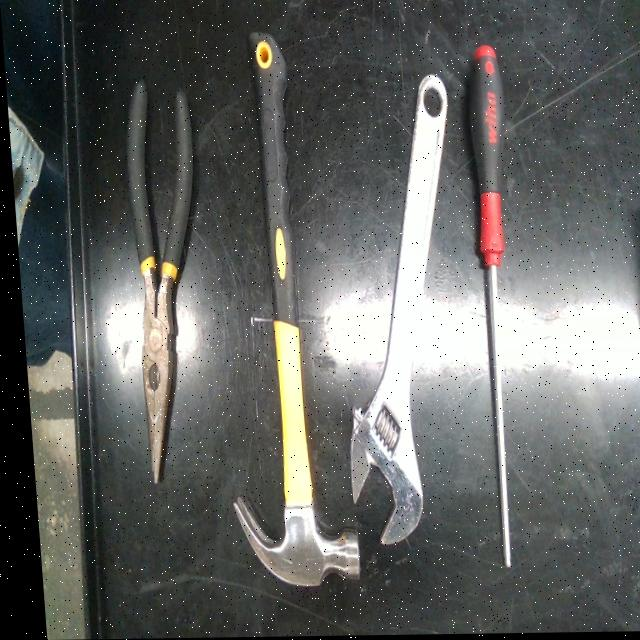Screwdriver: (468, 46, 503, 570)
